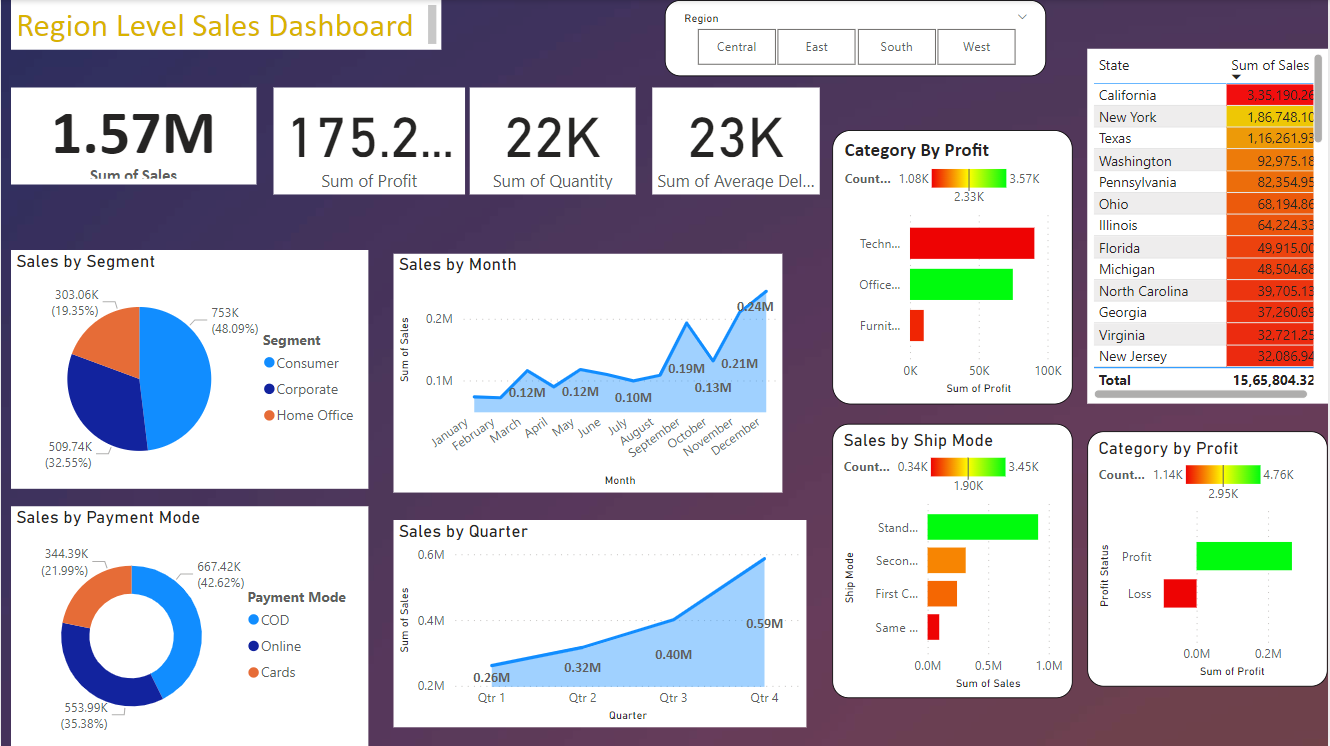

Layout of this report page (visuals, bound fields, positions):
{"tool":"powerbi","page":{"name":"Sales Dashboard","canvas":[1280,720],"ordinal":0},"visuals":[{"type":"textbox","box":[10,0,415,48.3],"z":0},{"type":"pieChart","title":"Sales by Segment","fields":{"Category":["SuperStore_Sales_Dataset.Segment"],"Y":["Sum(SuperStore_Sales_Dataset.Sales)"]},"box":[10,241.7,345,230],"z":1000},{"type":"donutChart","title":"Sales by Payment Mode","fields":{"Y":["Sum(SuperStore_Sales_Dataset.Sales)"],"Category":["SuperStore_Sales_Dataset.Payment Mode"]},"box":[10,488.3,345,231.7],"z":2000},{"type":"stackedAreaChart","title":" Sales by Month","fields":{"Category":["SuperStore_Sales_Dataset.Order Date.Variation.Date Hierarchy.Month"],"Y":["Sum(SuperStore_Sales_Dataset.Sales)"]},"box":[378.3,245,375,230],"z":3000},{"type":"stackedAreaChart","title":" Sales by Quarter","fields":{"Y":["Sum(SuperStore_Sales_Dataset.Sales)"],"Category":["SuperStore_Sales_Dataset.Order Date.Variation.Date Hierarchy.Quarter"]},"box":[378.3,501.7,398.3,200],"z":4000},{"type":"tableEx","fields":{"Values":["SuperStore_Sales_Dataset.State","Sum(SuperStore_Sales_Dataset.Sales)"]},"box":[1047.5,47.5,232.5,342.5],"z":5000},{"type":"clusteredBarChart","title":" Sales by Ship Mode","fields":{"Category":["SuperStore_Sales_Dataset.Ship Mode"],"Y":["Sum(SuperStore_Sales_Dataset.Sales)"]},"box":[801.7,408.3,231.7,265],"z":6000},{"type":"clusteredBarChart","title":"Category By Profit","fields":{"Y":["Sum(SuperStore_Sales_Dataset.Profit)"],"Category":["SuperStore_Sales_Dataset.Category"]},"box":[801.7,125,231.7,265],"z":7000},{"type":"clusteredBarChart","title":"Category by Profit","fields":{"Y":["Sum(SuperStore_Sales_Dataset.Profit)"],"Category":["SuperStore_Sales_Dataset.Profit Status"]},"box":[1048.3,416.7,231.7,246.7],"z":8000},{"type":"slicer","fields":{"Values":["SuperStore_Sales_Dataset.Region"]},"box":[640,0,368.3,73.3],"z":9000},{"type":"card","fields":{"Values":["Sum(SuperStore_Sales_Dataset.Sales)"]},"box":[10,85,236.7,93.3],"z":9001},{"type":"card","fields":{"Values":["Sum(SuperStore_Sales_Dataset.Profit)"]},"box":[263.3,85,185,103.3],"z":9002},{"type":"card","fields":{"Values":["Sum(SuperStore_Sales_Dataset.Quantity)"]},"box":[451.7,85,160,103.3],"z":9003},{"type":"card","fields":{"Values":["Sum(SuperStore_Sales_Dataset.Average Delivery)"]},"box":[628.3,85,161.7,103.3],"z":9004}]}

Visuals, with their boxes in screenshot pixels (x1, y1, x2, y2), scaled from the page's 1280x720 canvas onto the 1330x746 screenshot:
textbox: [x1=10, y1=0, x2=442, y2=50]
"Sales by Segment" pieChart: [x1=10, y1=250, x2=369, y2=489]
"Sales by Payment Mode" donutChart: [x1=10, y1=506, x2=369, y2=745]
" Sales by Month" stackedAreaChart: [x1=393, y1=254, x2=783, y2=492]
" Sales by Quarter" stackedAreaChart: [x1=393, y1=520, x2=807, y2=727]
tableEx - SuperStore_Sales_Dataset.State x Sum(SuperStore_Sales_Dataset.Sales): [x1=1088, y1=49, x2=1329, y2=404]
" Sales by Ship Mode" clusteredBarChart: [x1=833, y1=423, x2=1074, y2=698]
"Category By Profit" clusteredBarChart: [x1=833, y1=130, x2=1074, y2=404]
"Category by Profit" clusteredBarChart: [x1=1089, y1=432, x2=1329, y2=687]
slicer - SuperStore_Sales_Dataset.Region: [x1=665, y1=0, x2=1048, y2=76]
card - Sum(SuperStore_Sales_Dataset.Sales): [x1=10, y1=88, x2=256, y2=185]
card - Sum(SuperStore_Sales_Dataset.Profit): [x1=274, y1=88, x2=466, y2=195]
card - Sum(SuperStore_Sales_Dataset.Quantity): [x1=469, y1=88, x2=636, y2=195]
card - Sum(SuperStore_Sales_Dataset.Average Delivery): [x1=653, y1=88, x2=821, y2=195]
